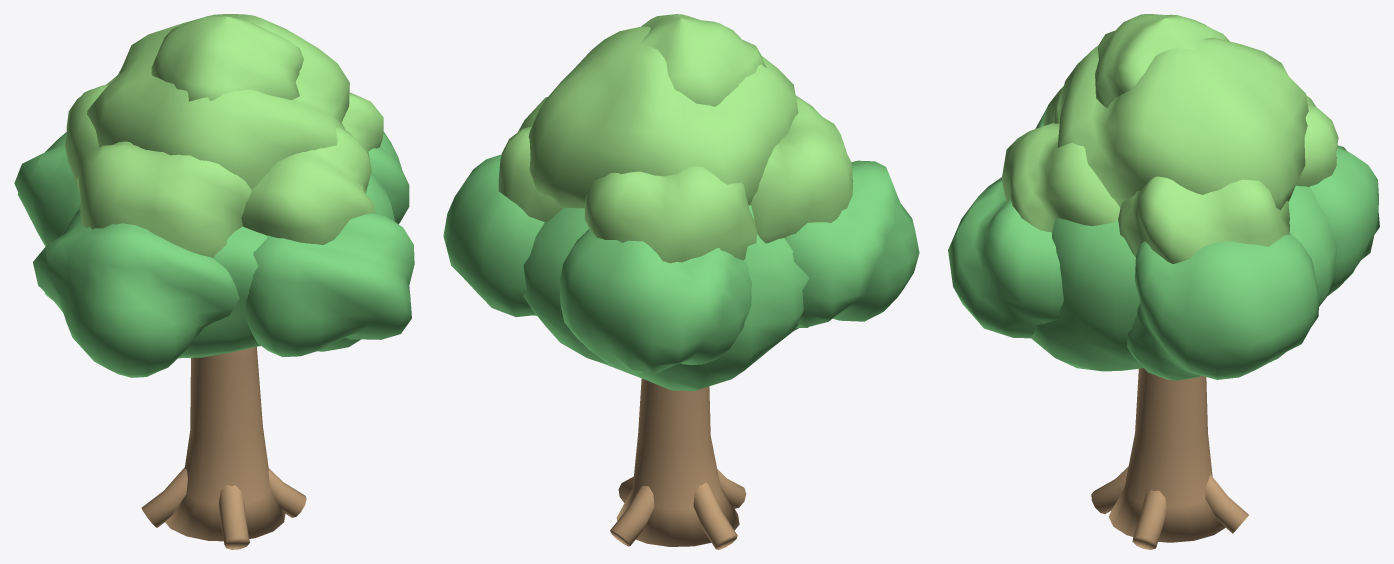
Rendered from cartoon_tree.glb.
3 views of the same model, side by side, from view 1: azimuth 30°, elevation 25°; view 2: azimuth 150°, elevation 25°; view 3: azimuth 270°, elevation 25° (orthographic).
Visible parts, largest first — view 1: CanopyBase, TrunkBase; view 2: CanopyBase, TrunkBase; view 3: CanopyBase, TrunkBase.
Part boxes in pixels (box(x1,y1,x2,y2)): CanopyBase: box(14, 14, 414, 377); TrunkBase: box(141, 347, 306, 549); CanopyBase: box(443, 14, 919, 390); TrunkBase: box(610, 378, 746, 549); CanopyBase: box(948, 14, 1379, 380); TrunkBase: box(1091, 368, 1248, 549).
Bounding box in the file's own units: 7.53 × 9.45 × 7.34.
